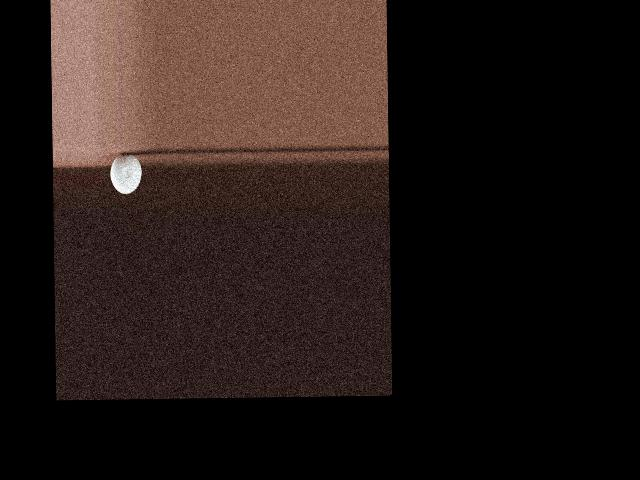egg: (110, 153, 141, 194)
